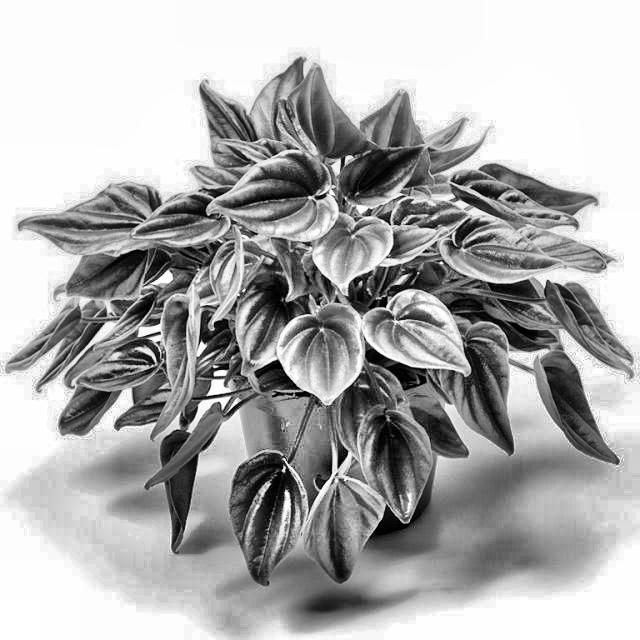plants: (8, 59, 634, 588)
